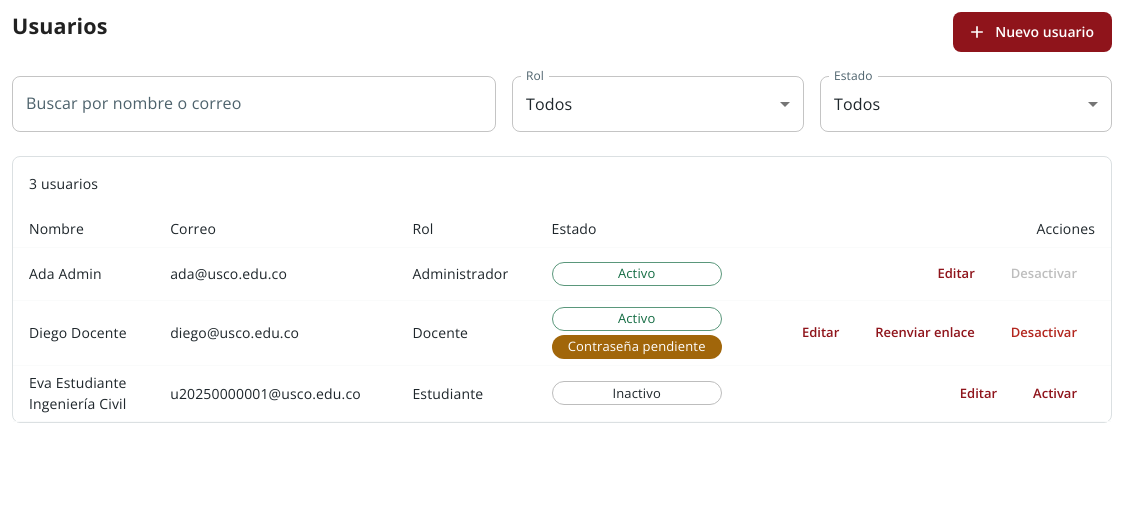
Test: UsuariosPage › permite reenviar el enlace mientras la cuenta está pendiente
Check: the text "3 usuarios" is shown, box [29,174,98,193]
Click the button with aria-label "Reenviar enlace a Diego Docente": click(925, 333) [857,313,993,353]
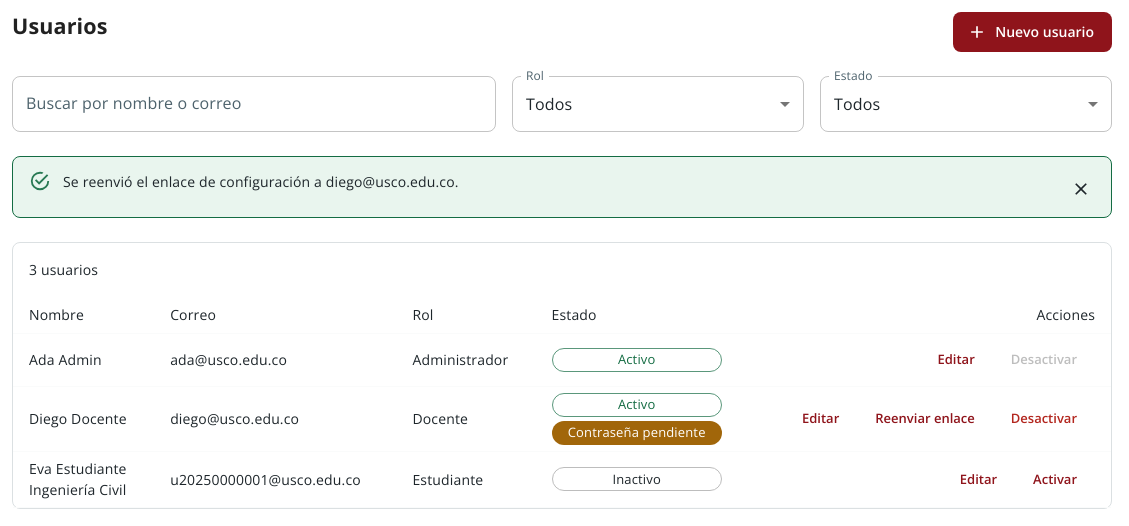
Check: the text "Se reenvió el enlace de configuración a diego@usco.edu.co." is shown, box [63,172,459,191]
